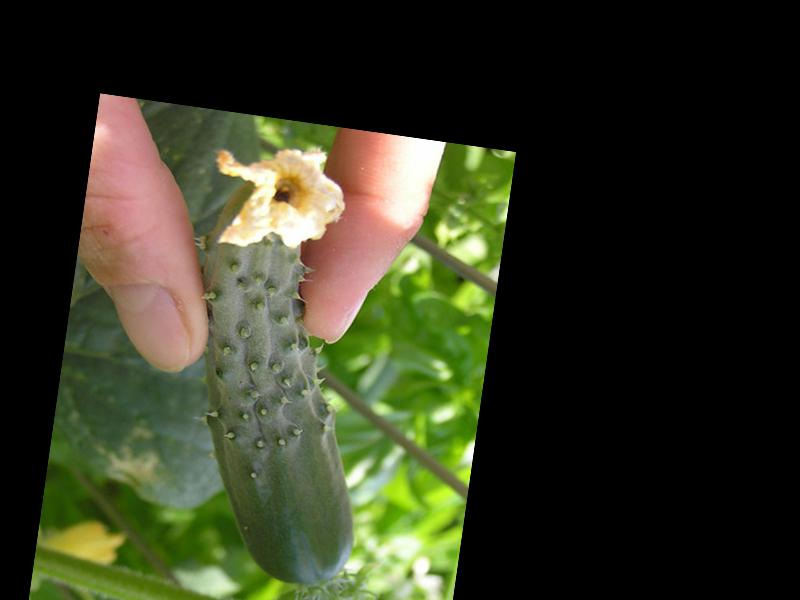Cucumber: (159, 137, 404, 592)
